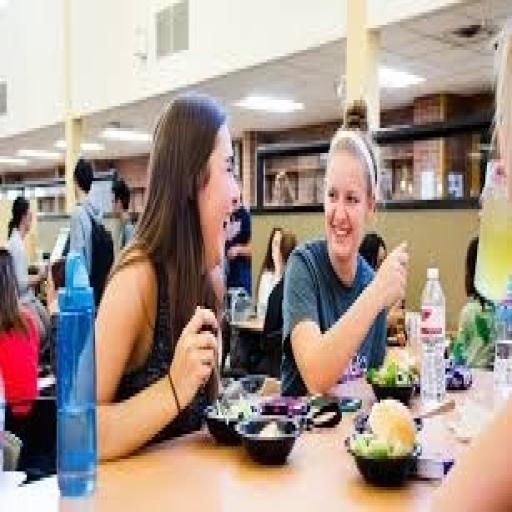eating: (77, 91, 242, 462), (278, 116, 410, 400)
